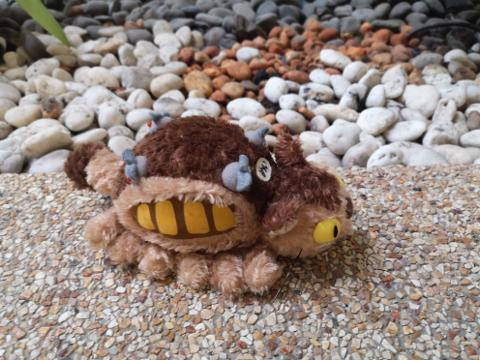nekobus: (61, 114, 357, 302)
